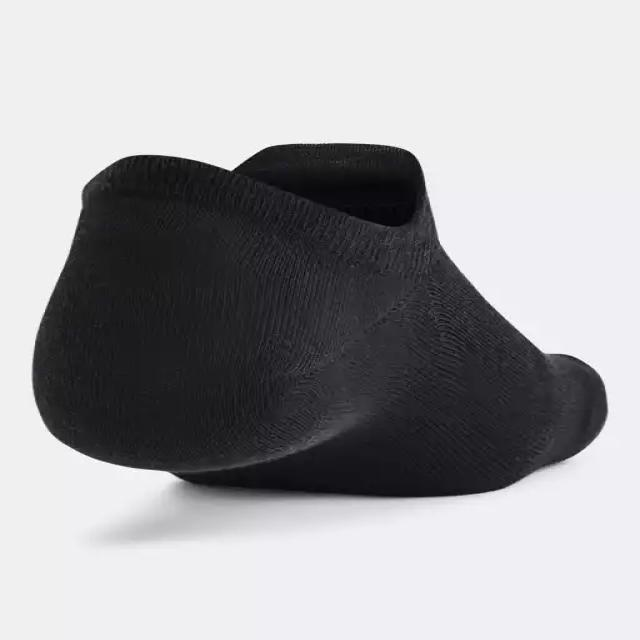sock: (30, 141, 608, 497)
